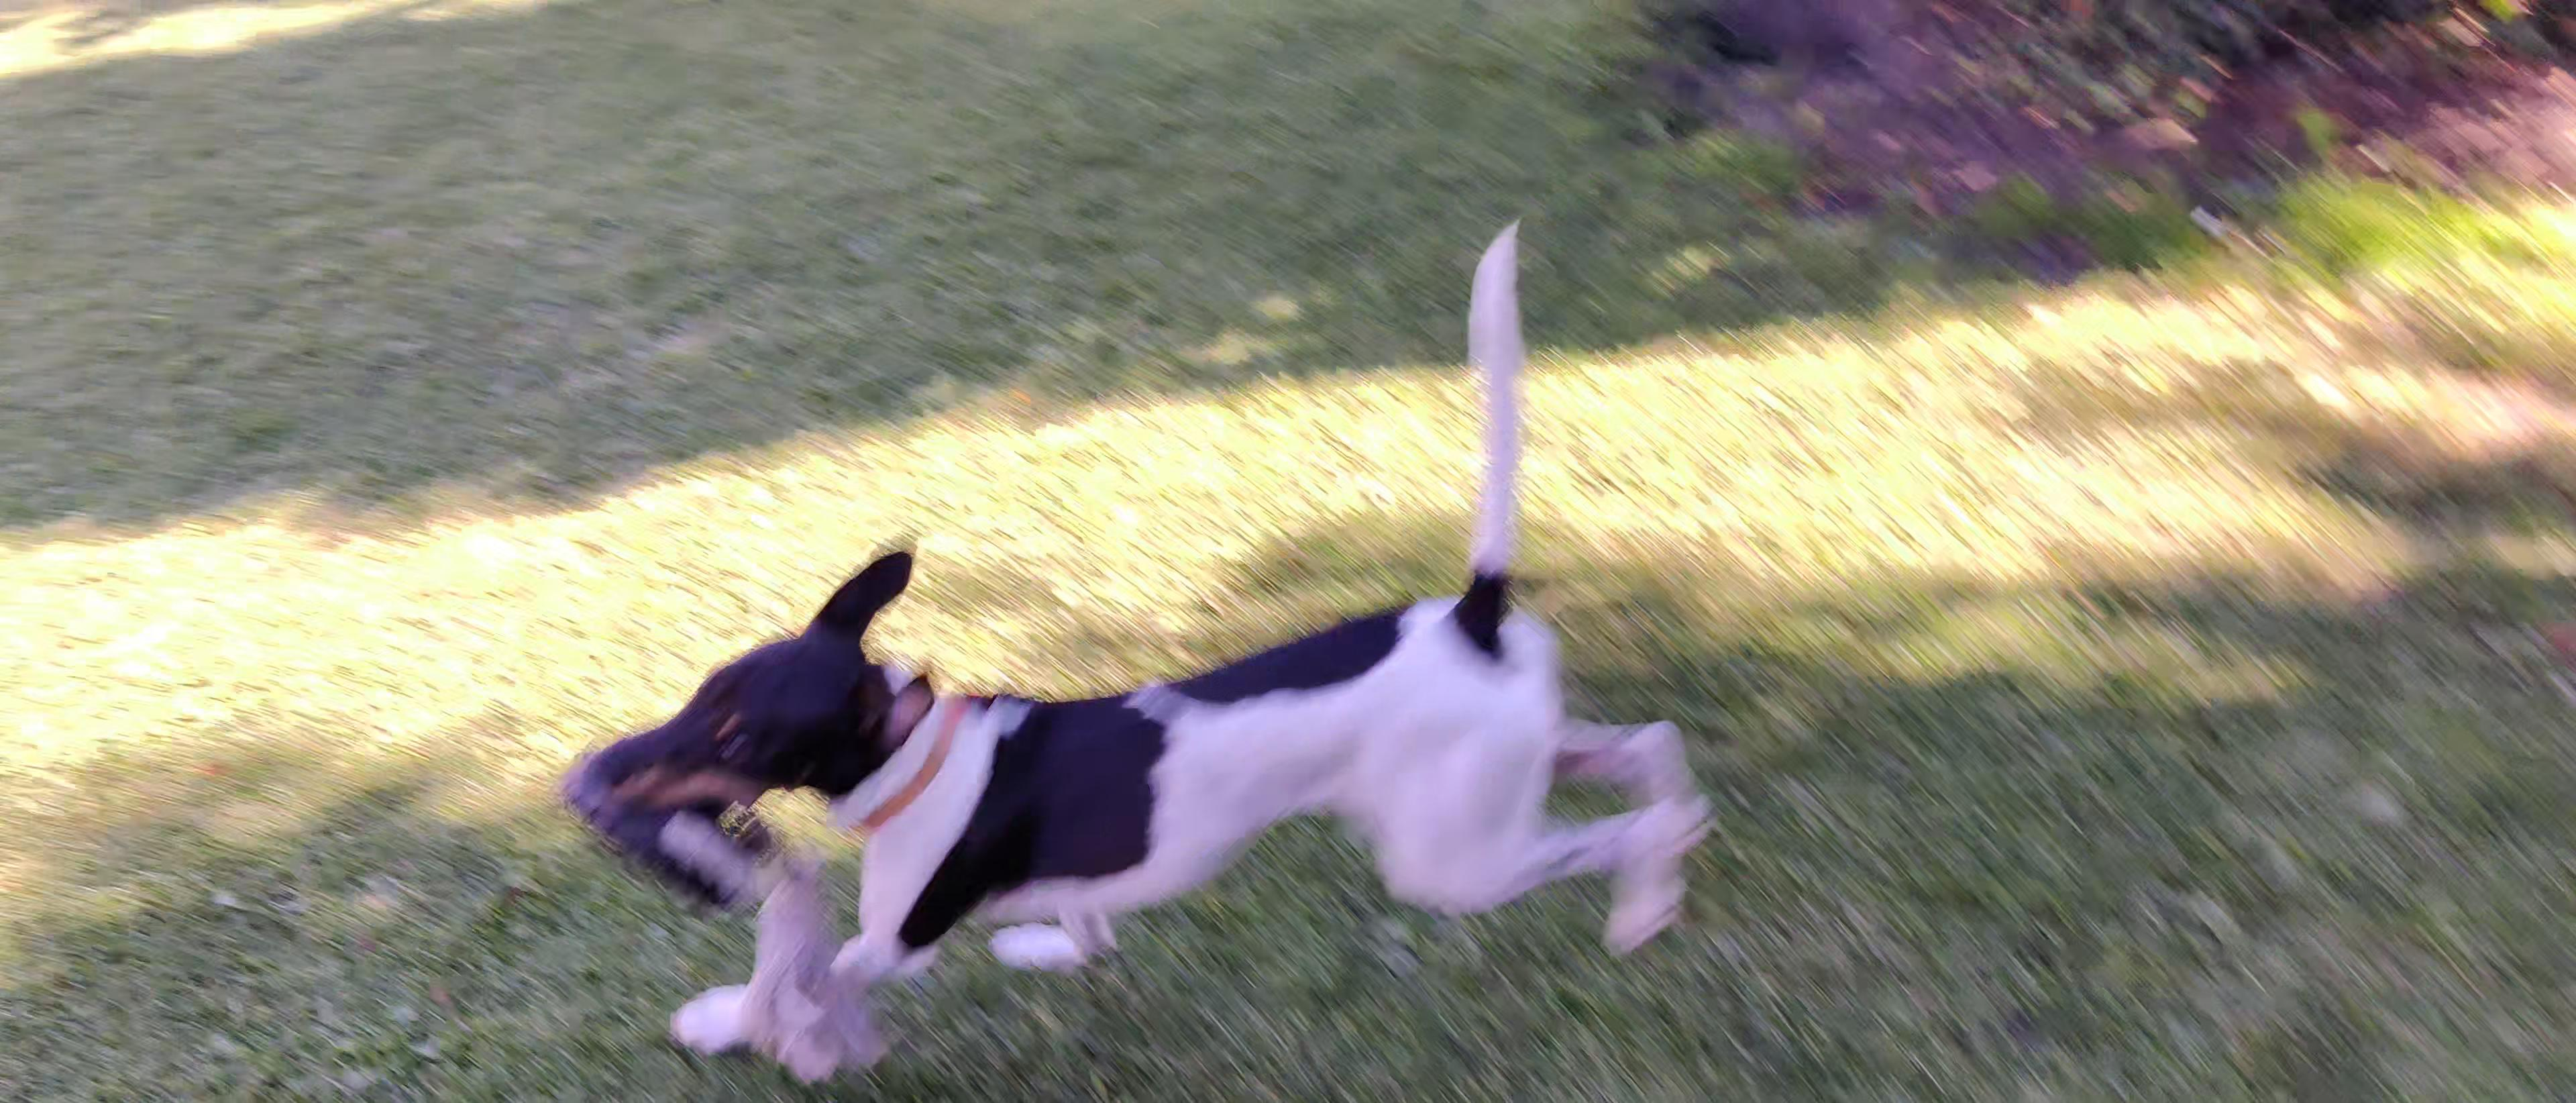Dog: (563, 202, 1728, 1090)
